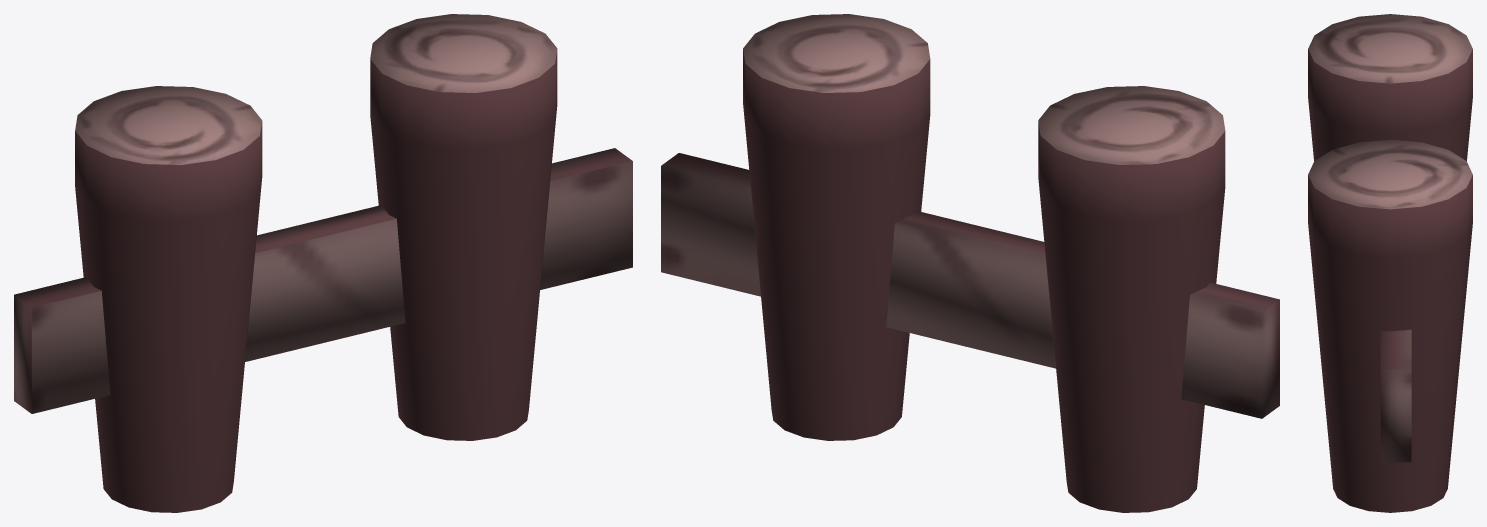
File: Cerca_1.fbx
3 renders of one model, left to right at view 1: azimuth 30°, elevation 25°; view 2: azimuth 150°, elevation 25°; view 3: azimuth 270°, elevation 25°, orthographic. The views are drawn at different scales.
Visible parts, largest first — view 1: Cylinder; view 2: Cylinder; view 3: Cylinder.
Part boxes in pixels (<box>): Cylinder: <box>14,14,632,512</box>; Cylinder: <box>661,14,1279,512</box>; Cylinder: <box>1308,14,1472,512</box>.
Size of the model in its own units: 199 by 54.02 by 114.
